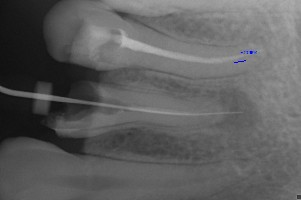Furcation Involvement: (212, 90, 265, 131)
